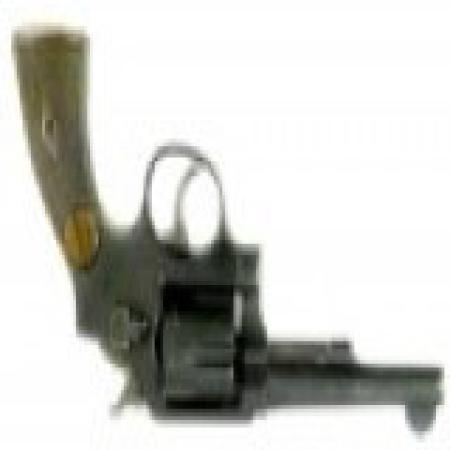Pistol: (11, 30, 447, 446)
